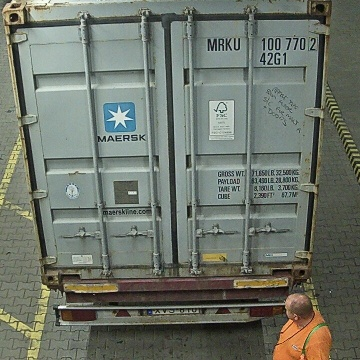serial_id: (207, 37, 318, 50)
